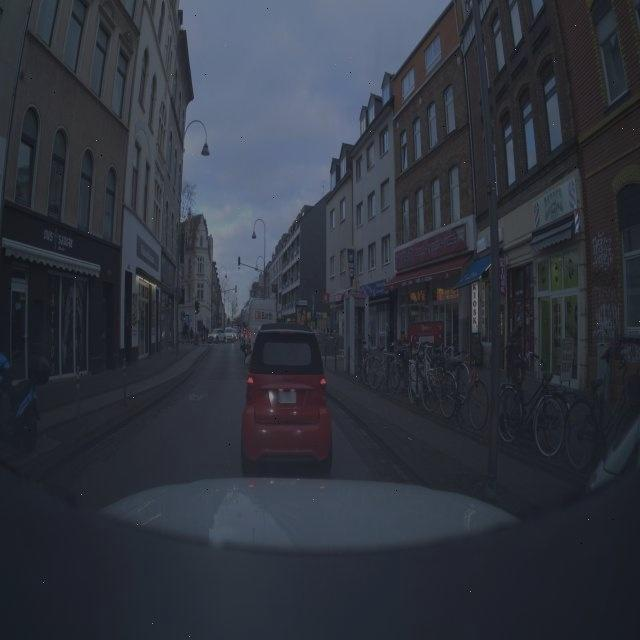Green: (224, 255, 258, 282), (186, 296, 206, 330)
